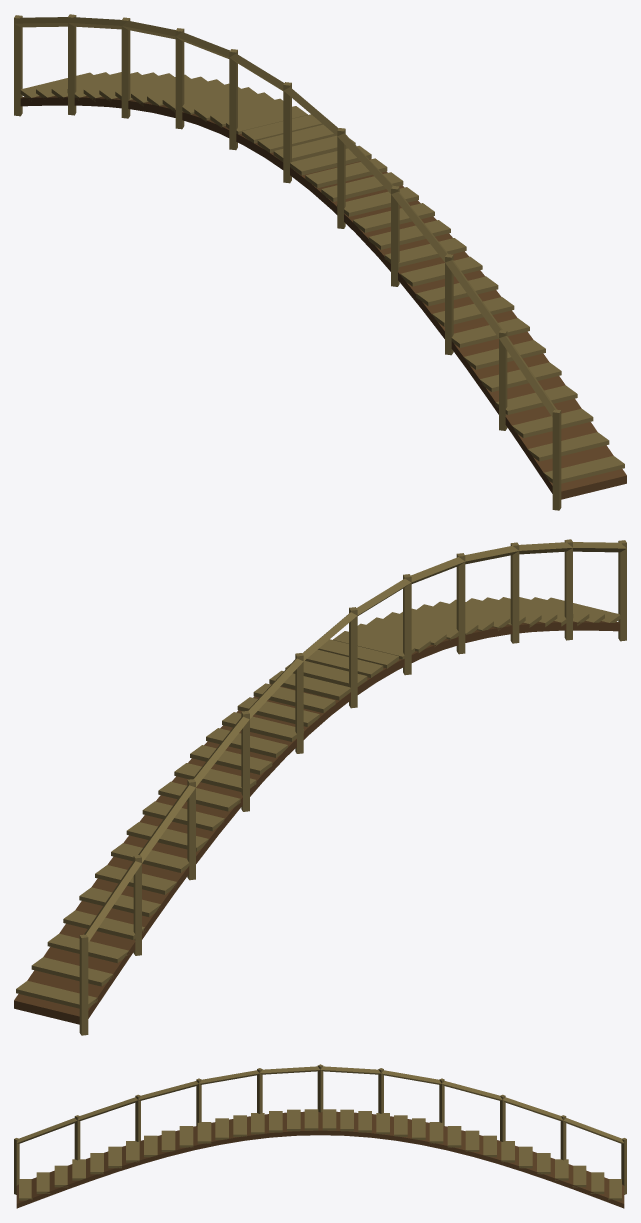
File: monkey-near.glb
3 renders of one model, top to bottom at view 1: azimuth 30°, elevation 25°; view 2: azimuth 150°, elevation 25°; view 3: azimuth 270°, elevation 25°, orthographic. The views are drawn at different scales.
Parts seen in each view (by area): view 1: monkey-near; view 2: monkey-near; view 3: monkey-near.
Part boxes in pixels (x1,y1,x2,y2): monkey-near: (14, 14, 626, 510); monkey-near: (14, 539, 626, 1035); monkey-near: (14, 1064, 626, 1208).
Size of the model in its own units: 0.955 by 2.8 by 12.11.
